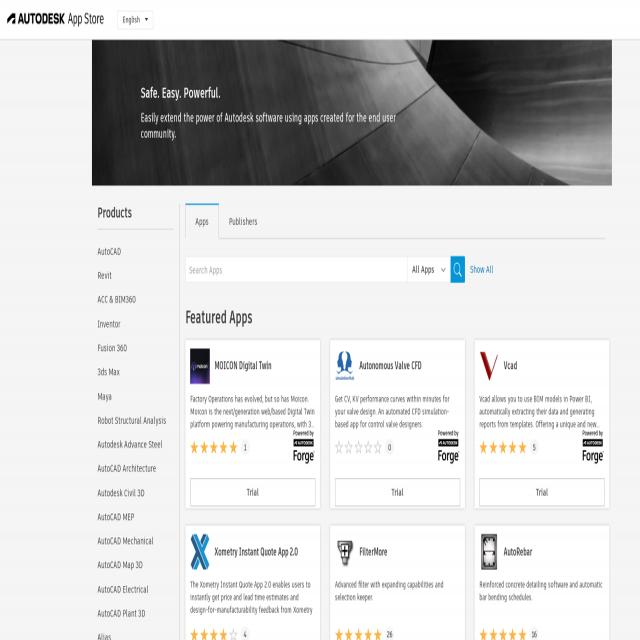button: (184, 338, 320, 511), (474, 338, 610, 510), (330, 340, 464, 509), (185, 525, 321, 640), (474, 526, 610, 640), (330, 526, 465, 640), (480, 478, 605, 505), (191, 479, 315, 505), (335, 479, 460, 503), (6, 9, 104, 31), (220, 204, 262, 235), (408, 258, 451, 284), (186, 202, 218, 236), (118, 11, 154, 29), (451, 256, 465, 282)
field: (185, 256, 408, 282)
